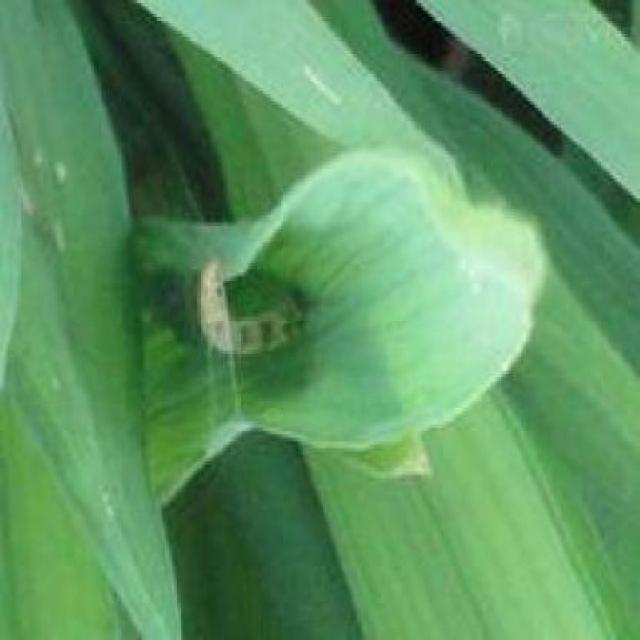leaf-folder: (180, 249, 322, 363)
